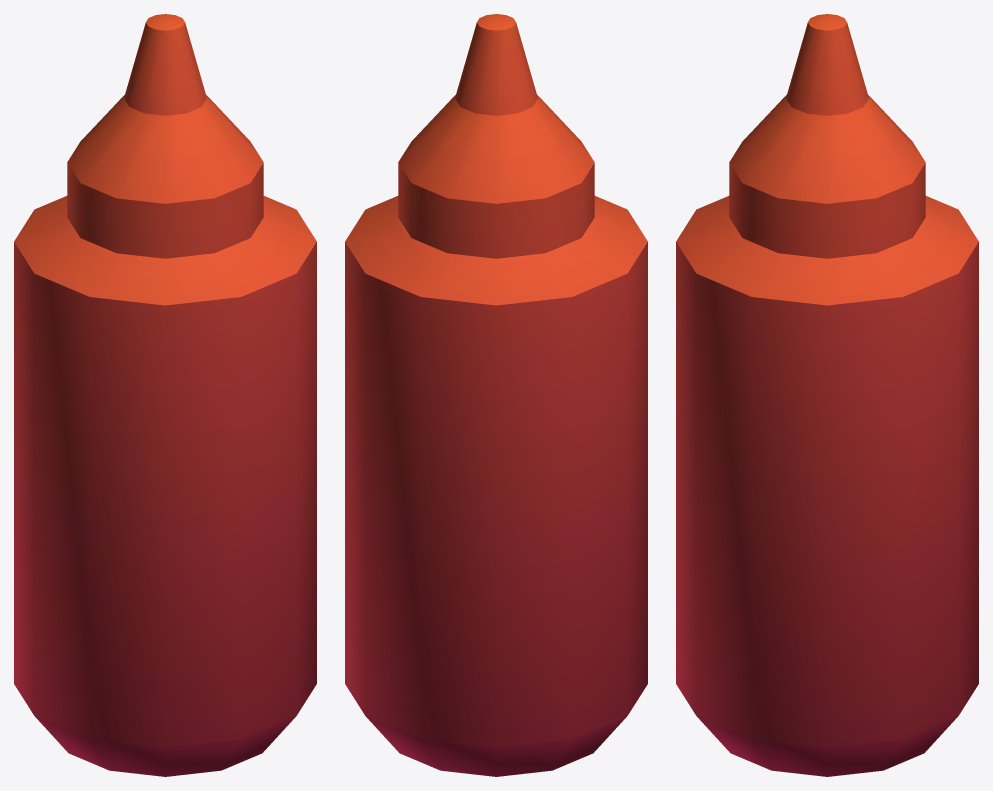
Rendered from kaykit-restaurant-bits-ketchup.glb.
3 views of the same model, side by side, from view 1: azimuth 30°, elevation 25°; view 2: azimuth 150°, elevation 25°; view 3: azimuth 270°, elevation 25° (orthographic).
Visible parts, largest first — view 1: ketchup; view 2: ketchup; view 3: ketchup.
Part boxes in pixels (x1,y1,x2,y2): ketchup: [14, 14, 316, 776]; ketchup: [345, 14, 647, 776]; ketchup: [676, 14, 978, 776].
Size of the model in its own units: 0.3 by 0.7785 by 0.3.
1 material, 1 textured.
